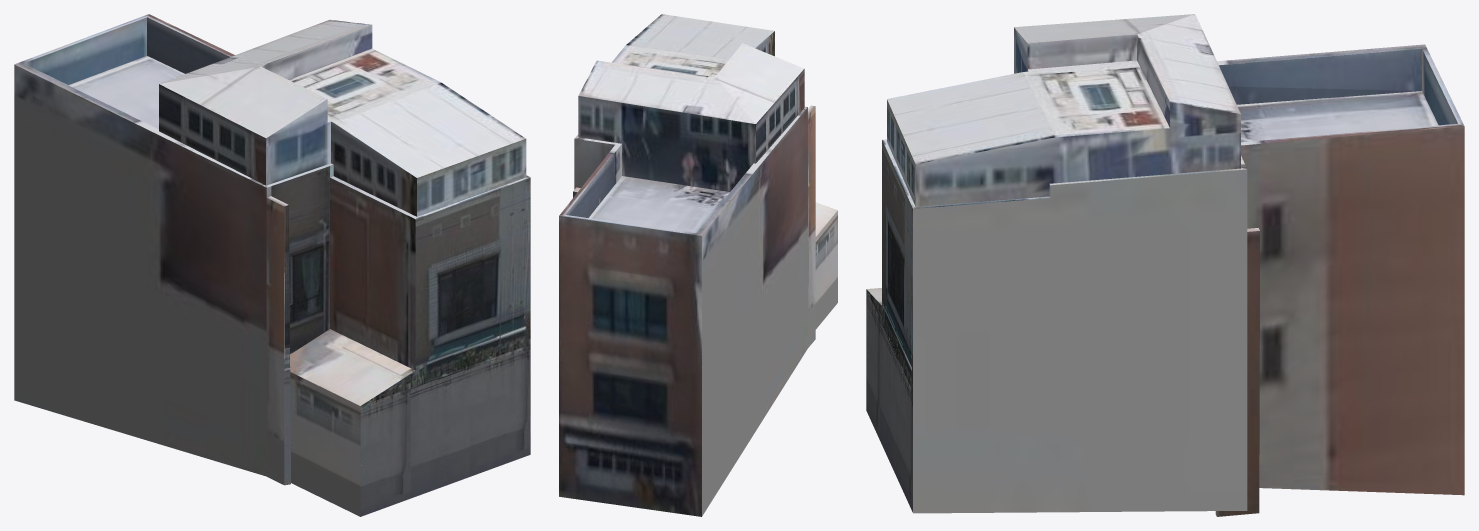
3 views of the same model, side by side, from view 1: azimuth 30°, elevation 25°; view 2: azimuth 150°, elevation 25°; view 3: azimuth 270°, elevation 25° (orthographic). The views are drawn at different scales.
Parts seen in each view (by area): view 1: B281074032601062A0; view 2: B281074032601062A0; view 3: B281074032601062A0.
Boxes of the visible parts, left/top/right/bottom form: B281074032601062A0: left=14, top=14, right=530, bottom=516; B281074032601062A0: left=559, top=14, right=837, bottom=516; B281074032601062A0: left=866, top=14, right=1464, bottom=516.
Bounding box in the file's own units: 8.63 × 11.68 × 14.36.
Materials: 1 (1 with a texture image).
